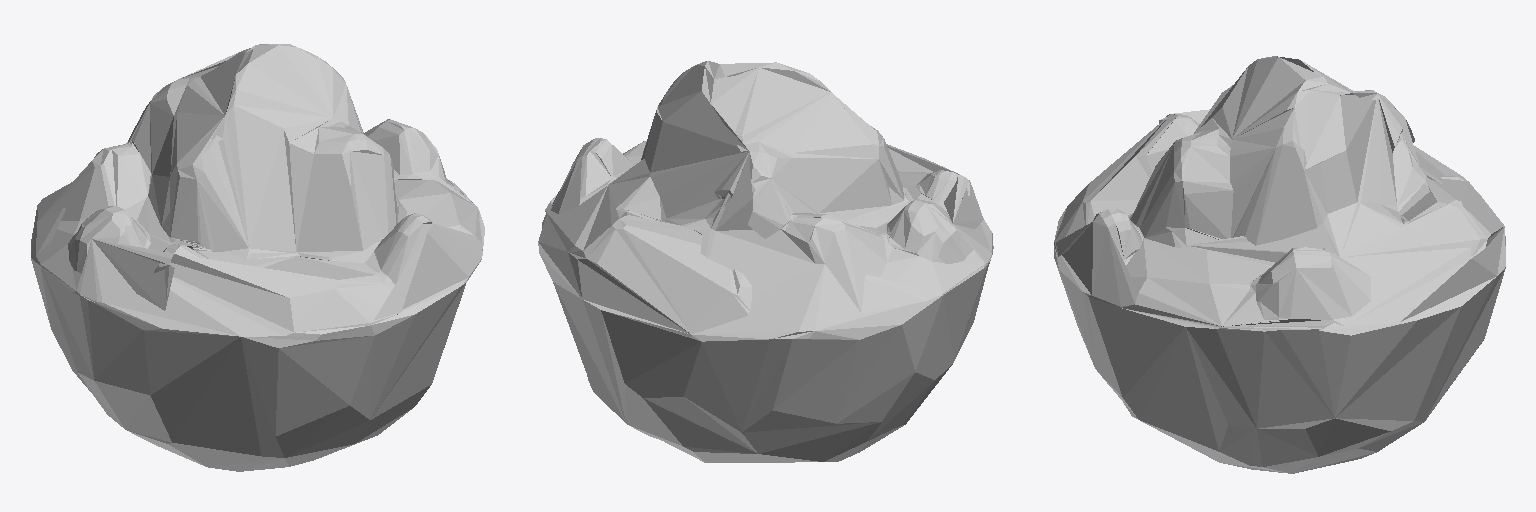
File: ice.obj
3 views of the same model, side by side, from view 1: azimuth 30°, elevation 25°; view 2: azimuth 150°, elevation 25°; view 3: azimuth 270°, elevation 25° (orthographic).
Visible parts, largest first — view 1: Cube; view 2: Cube; view 3: Cube.
Part boxes in pixels (left/top/right/bottom): Cube: left=31, top=44, right=484, bottom=471; Cube: left=538, top=61, right=993, bottom=462; Cube: left=1054, top=56, right=1505, bottom=473.
Size of the model in its own units: 3.6 by 3.38 by 3.54.